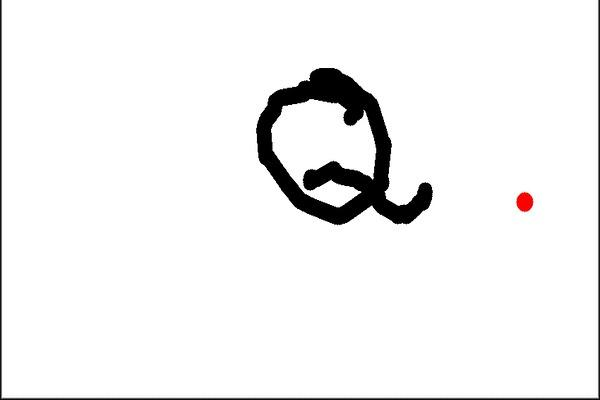Q: (245, 56, 443, 233)
